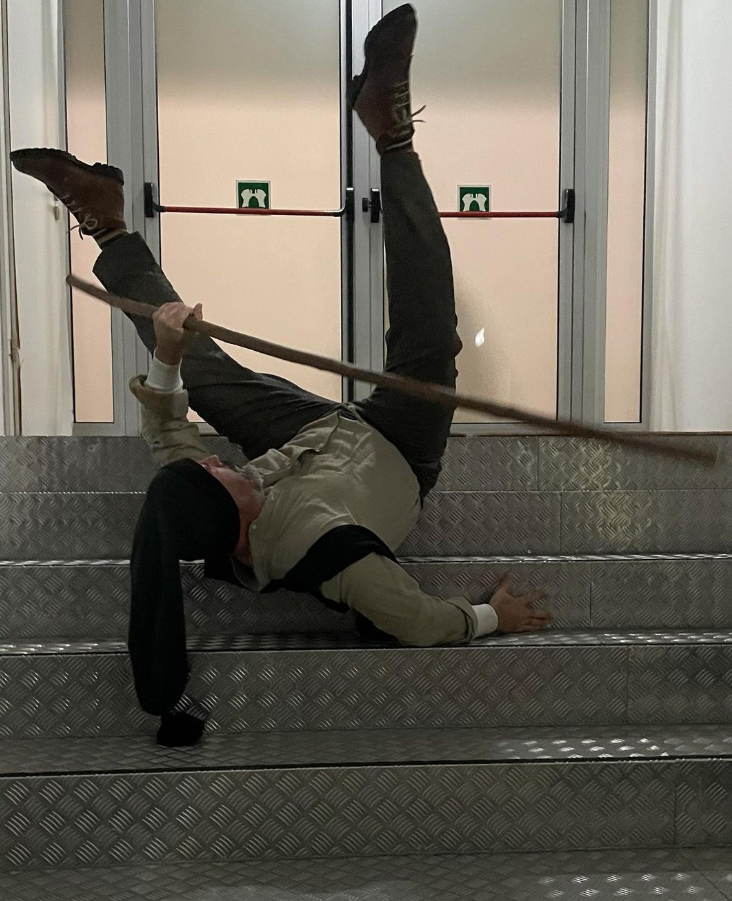fall: (11, 43, 558, 734)
